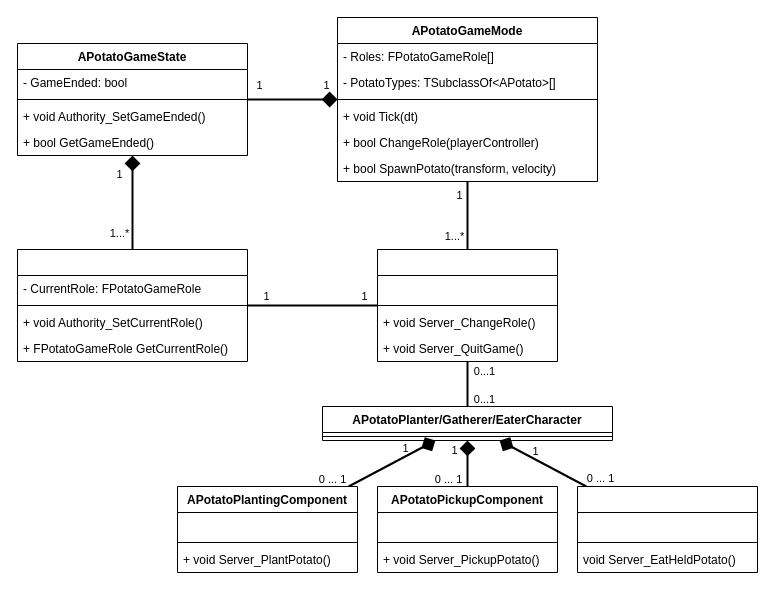
The diagram is 775 pixels wide and 593 high, and some of its shapes have lost their labels. Here are the shapes that lost their labels. From the top down, the box of each, then its label:
(16, 248, 248, 362): APotatoPlayerState
(376, 248, 558, 362): APotatoPlayerController
(576, 486, 758, 572): APotatoEatingComponent
